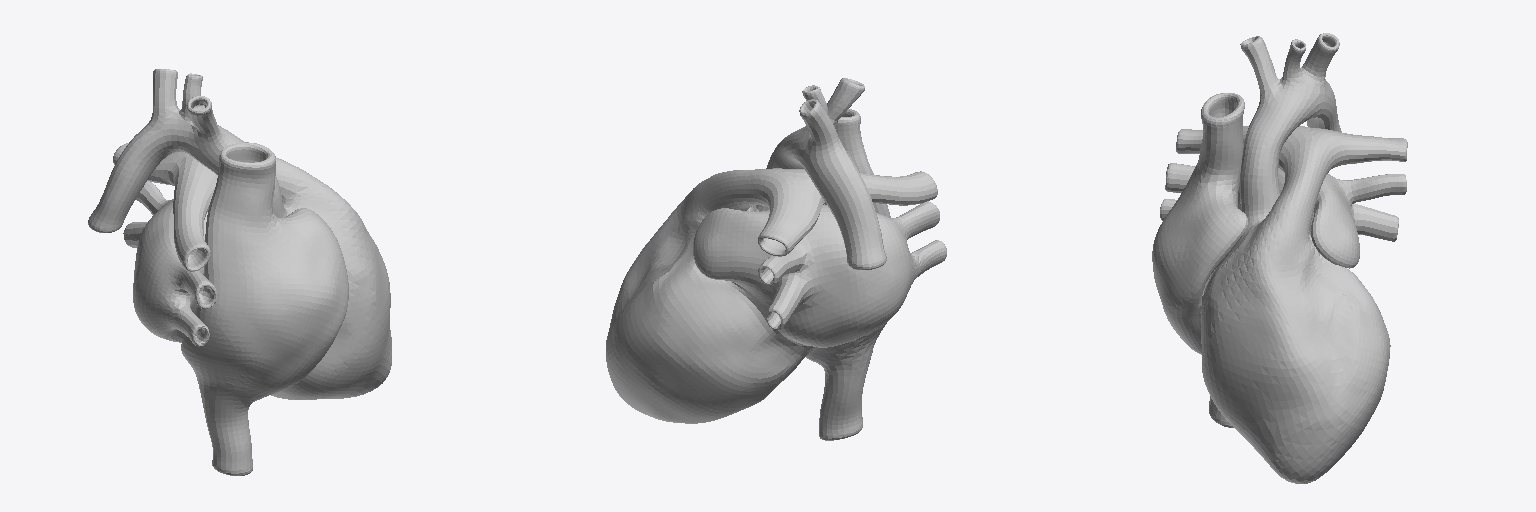
The picture shows the model from 3 angles: view 1: azimuth 30°, elevation 25°; view 2: azimuth 150°, elevation 25°; view 3: azimuth 270°, elevation 25°; orthographic projection.
Parts seen in each view (by area): view 1: HEART_PRO; view 2: HEART_PRO; view 3: HEART_PRO.
Part boxes in pixels (x1,y1,x2,y2): HEART_PRO: (88, 69, 391, 475); HEART_PRO: (606, 78, 946, 440); HEART_PRO: (1152, 33, 1407, 483).
Size of the model in its own units: 641 by 819 by 504.